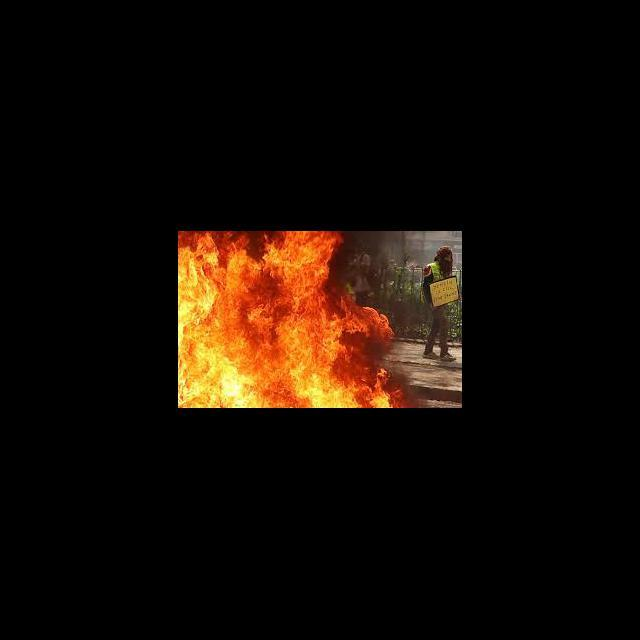Fire: (178, 232, 411, 408)
